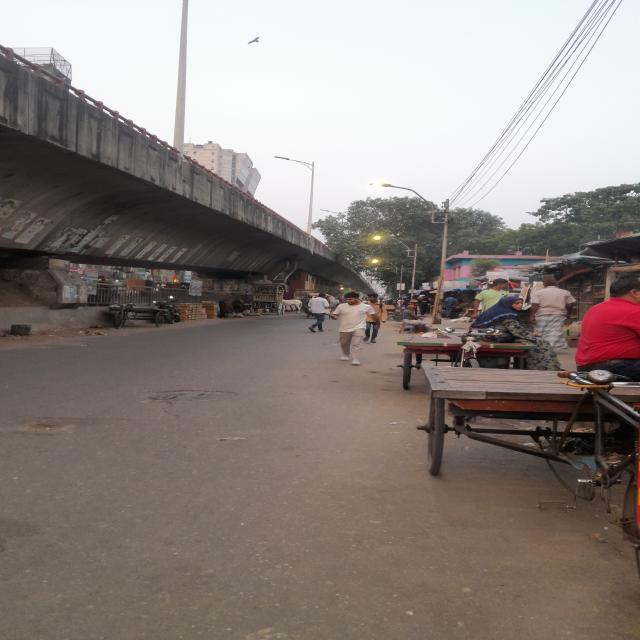person: (331, 292, 380, 365), (363, 294, 387, 344), (308, 294, 329, 332)
